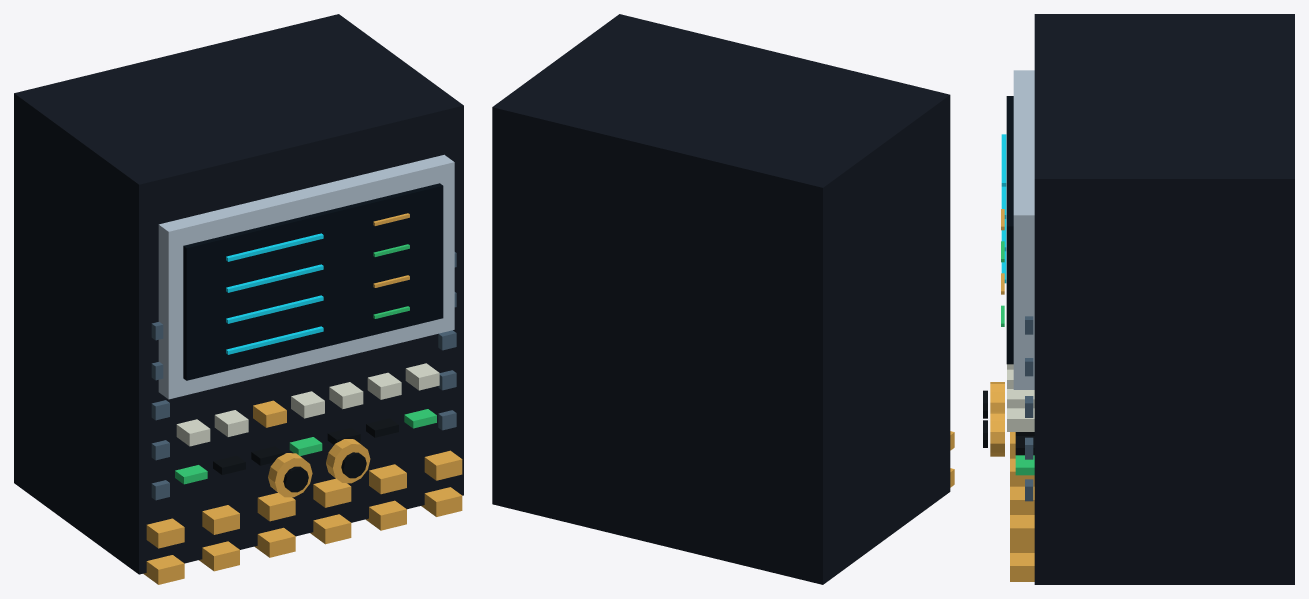
The model's file is 96_L92_EnvironmentalProcessRecorder.fbx.
3 renders of one model, left to right at view 1: azimuth 30°, elevation 25°; view 2: azimuth 150°, elevation 25°; view 3: azimuth 270°, elevation 25°, orthographic. The views are drawn at different scales.
Visible parts, largest first — view 1: L92_EnvironmentalProcessRecorder, L92_EnvironmentalProcessRecorder_Part_0010, L92_EnvironmentalProcessRecorder_Part_0012; view 2: L92_EnvironmentalProcessRecorder; view 3: L92_EnvironmentalProcessRecorder, L92_EnvironmentalProcessRecorder_Part_0012, L92_EnvironmentalProcessRecorder_Part_0010.
Part boxes in pixels (box(x1,y1,x2,y2)): L92_EnvironmentalProcessRecorder: box(14, 14, 463, 584); L92_EnvironmentalProcessRecorder_Part_0010: box(268, 453, 312, 497); L92_EnvironmentalProcessRecorder_Part_0012: box(326, 439, 370, 483); L92_EnvironmentalProcessRecorder: box(492, 14, 954, 584); L92_EnvironmentalProcessRecorder: box(1001, 14, 1294, 584); L92_EnvironmentalProcessRecorder_Part_0012: box(990, 411, 1004, 456); L92_EnvironmentalProcessRecorder_Part_0010: box(990, 382, 1004, 411).
Size of the model in its own units: 112 by 130 by 89.6.
